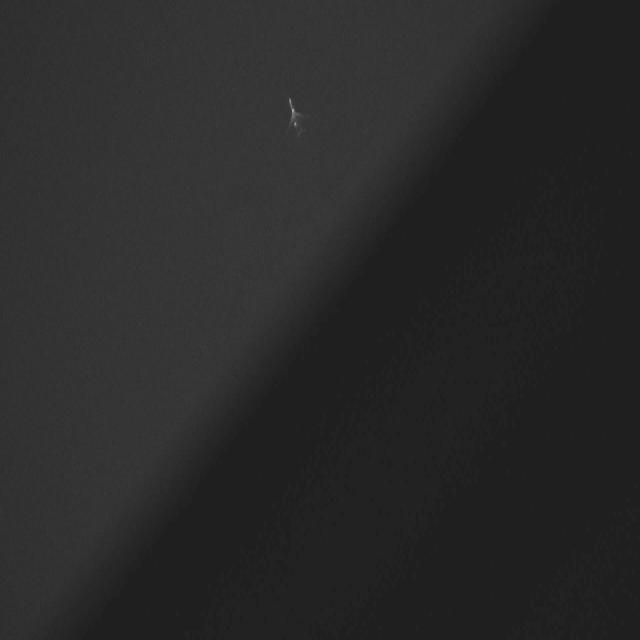aeroplane: (284, 91, 308, 145)
